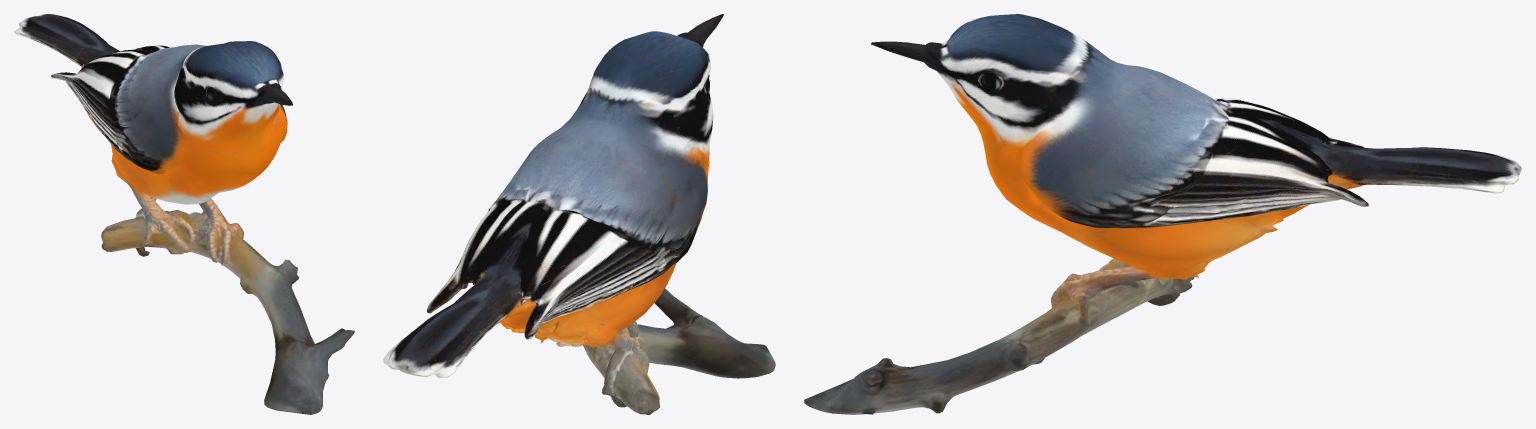
The model's file is bird-boomklever.glb.
3 renders of one model, left to right at view 1: azimuth 30°, elevation 25°; view 2: azimuth 150°, elevation 25°; view 3: azimuth 270°, elevation 25°, orthographic. The views are drawn at different scales.
Size of the model in its own units: 0.5424 by 1.12 by 1.91.
1 material, 1 textured.
